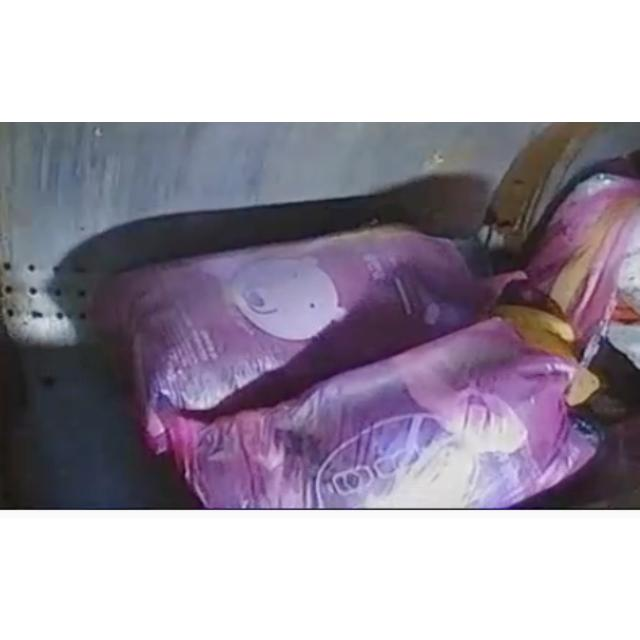other_trashbag: (168, 318, 598, 508), (96, 227, 489, 421), (526, 174, 640, 360)
